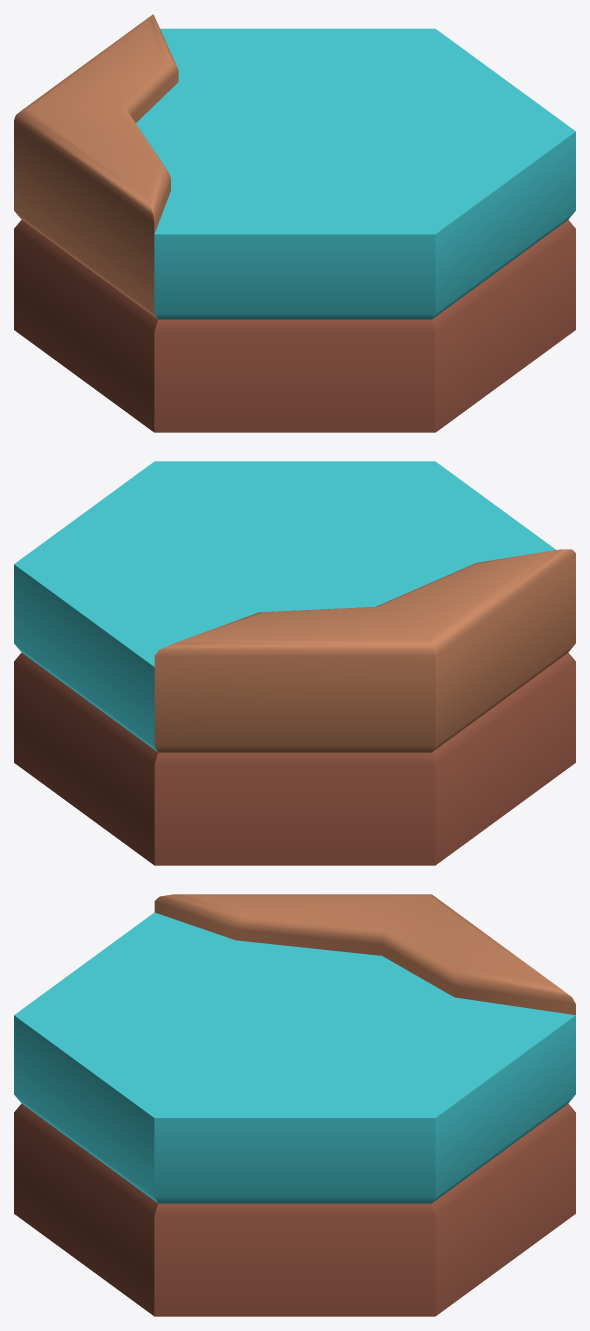
Rendered from hex_rock_waterA_detail.glb.
3 views of the same model, one above another, from view 1: azimuth 30°, elevation 25°; view 2: azimuth 150°, elevation 25°; view 3: azimuth 270°, elevation 25° (orthographic).
Visible parts, largest first — view 1: hex_rock_waterA_detail; view 2: hex_rock_waterA_detail; view 3: hex_rock_waterA_detail.
Part boxes in pixels (x1,y1,x2,y2): hex_rock_waterA_detail: [14, 14, 575, 432]; hex_rock_waterA_detail: [14, 461, 575, 865]; hex_rock_waterA_detail: [14, 894, 575, 1316].
Size of the model in its own units: 2 by 1 by 2.31.
